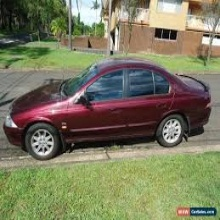no damage: (3, 58, 212, 160)
